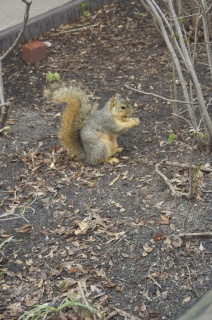Squirrel: (51, 84, 140, 166)
